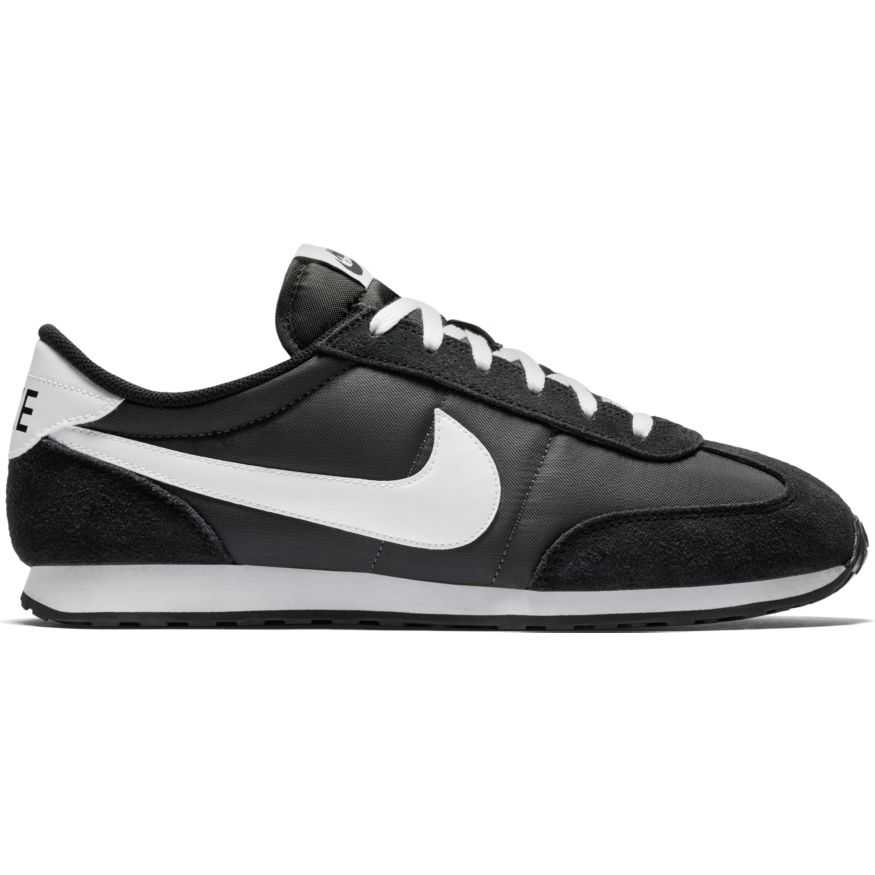nike: (52, 412, 503, 558)
